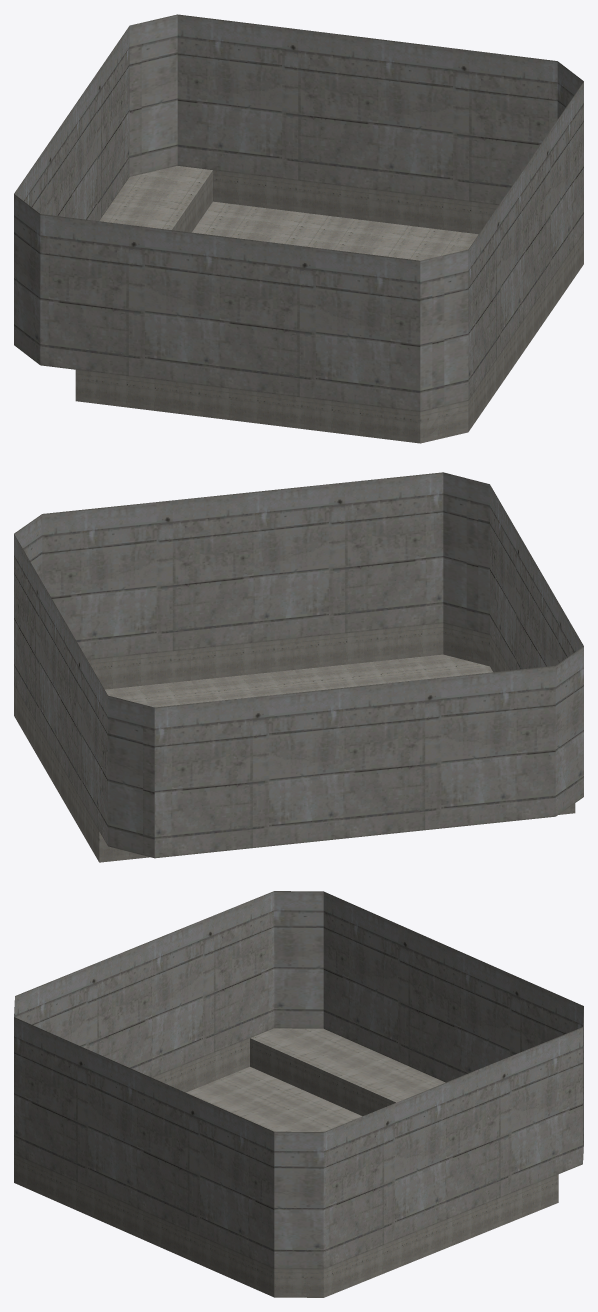
File: a51_launchbottom.obj
The picture shows the model from 3 angles, top to bottom: view 1: azimuth 30°, elevation 25°; view 2: azimuth 150°, elevation 25°; view 3: azimuth 270°, elevation 25°; orthographic projection. The views are drawn at different scales.
Visible parts, largest first — view 1: a51_launchbottom; view 2: a51_launchbottom; view 3: a51_launchbottom.
Part boxes in pixels (x1,y1,x2,y2): a51_launchbottom: [14, 14, 583, 443]; a51_launchbottom: [14, 472, 583, 862]; a51_launchbottom: [14, 891, 583, 1297].
Bounding box in the file's own units: 17.67 × 5.67 × 17.65.
2 materials, 2 textured.
